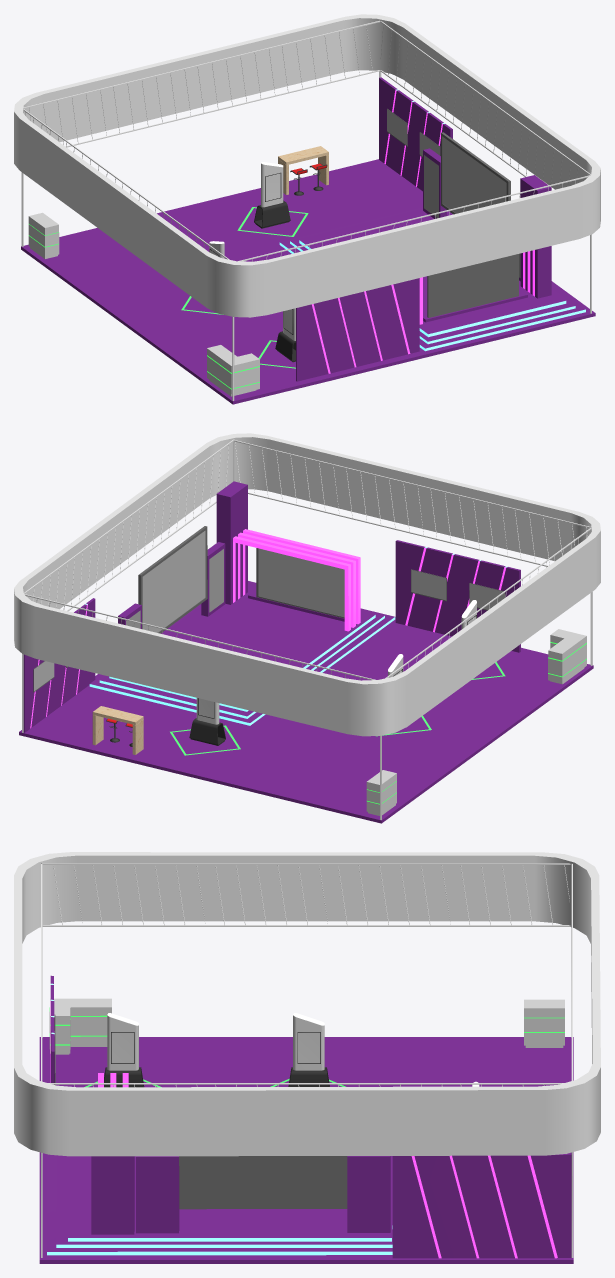
The model's file is Japan_Federation_Booth.fbx.
3 views of the same model, one above another, from view 1: azimuth 30°, elevation 25°; view 2: azimuth 150°, elevation 25°; view 3: azimuth 270°, elevation 25° (orthographic). The views are drawn at different scales.
Visible parts, largest first — view 1: Japan_Federation_Booth; view 2: Japan_Federation_Booth; view 3: Japan_Federation_Booth.
Boxes of the visible parts, x1,y1,x2,y2 form: Japan_Federation_Booth: (14, 14, 600, 404); Japan_Federation_Booth: (14, 433, 600, 823); Japan_Federation_Booth: (14, 852, 600, 1263).
Size of the model in its own units: 1606 by 566 by 1669.
